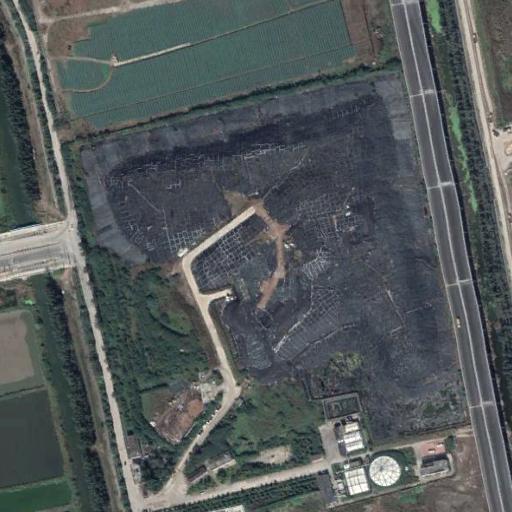lf: (79, 66, 472, 449)
